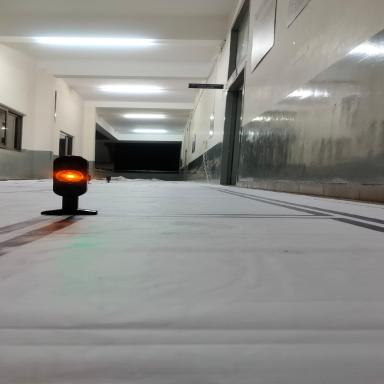yellow: (48, 171, 98, 185)
